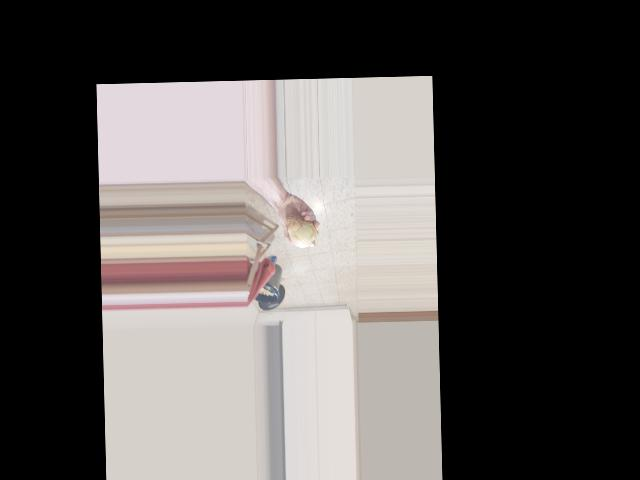onion: (284, 216, 317, 248)
